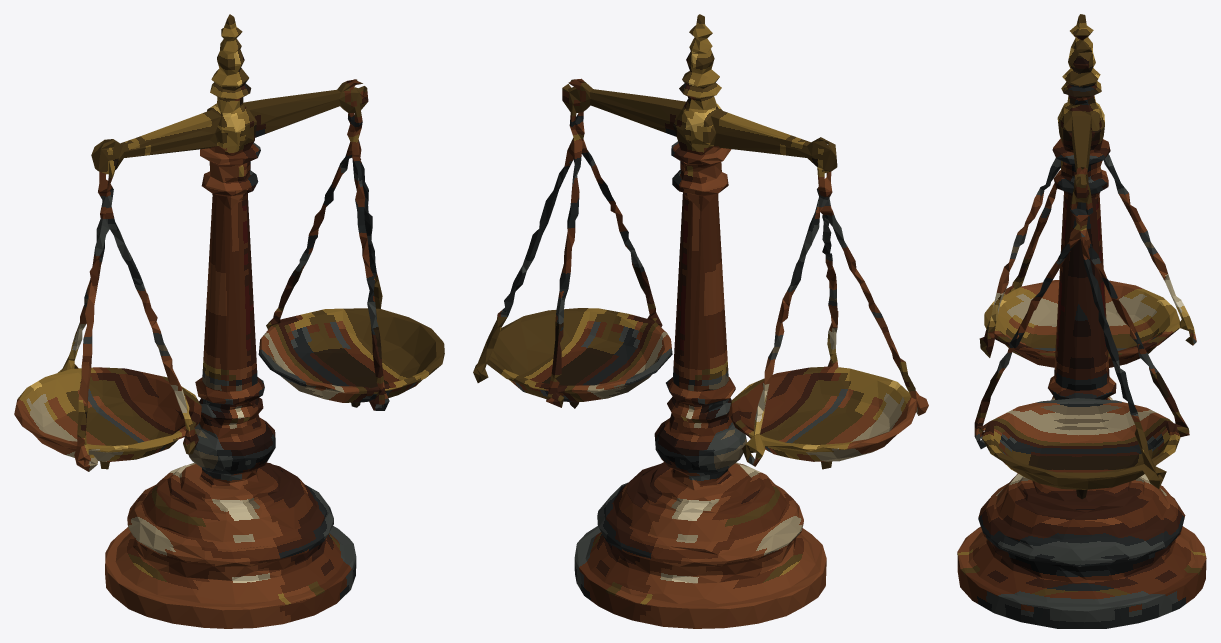
Rendered from scale.glb.
3 views of the same model, side by side, from view 1: azimuth 30°, elevation 25°; view 2: azimuth 150°, elevation 25°; view 3: azimuth 270°, elevation 25° (orthographic).
Parts seen in each view (by area): view 1: scale; view 2: scale; view 3: scale.
Part boxes in pixels (box(x1,y1,x2,y2)): scale: box(14, 14, 444, 628); scale: box(473, 14, 928, 628); scale: box(957, 14, 1206, 628).
Bounding box in the file's own units: 0.5686 × 0.75 × 0.3015.
Materials: 1 (1 with a texture image).
